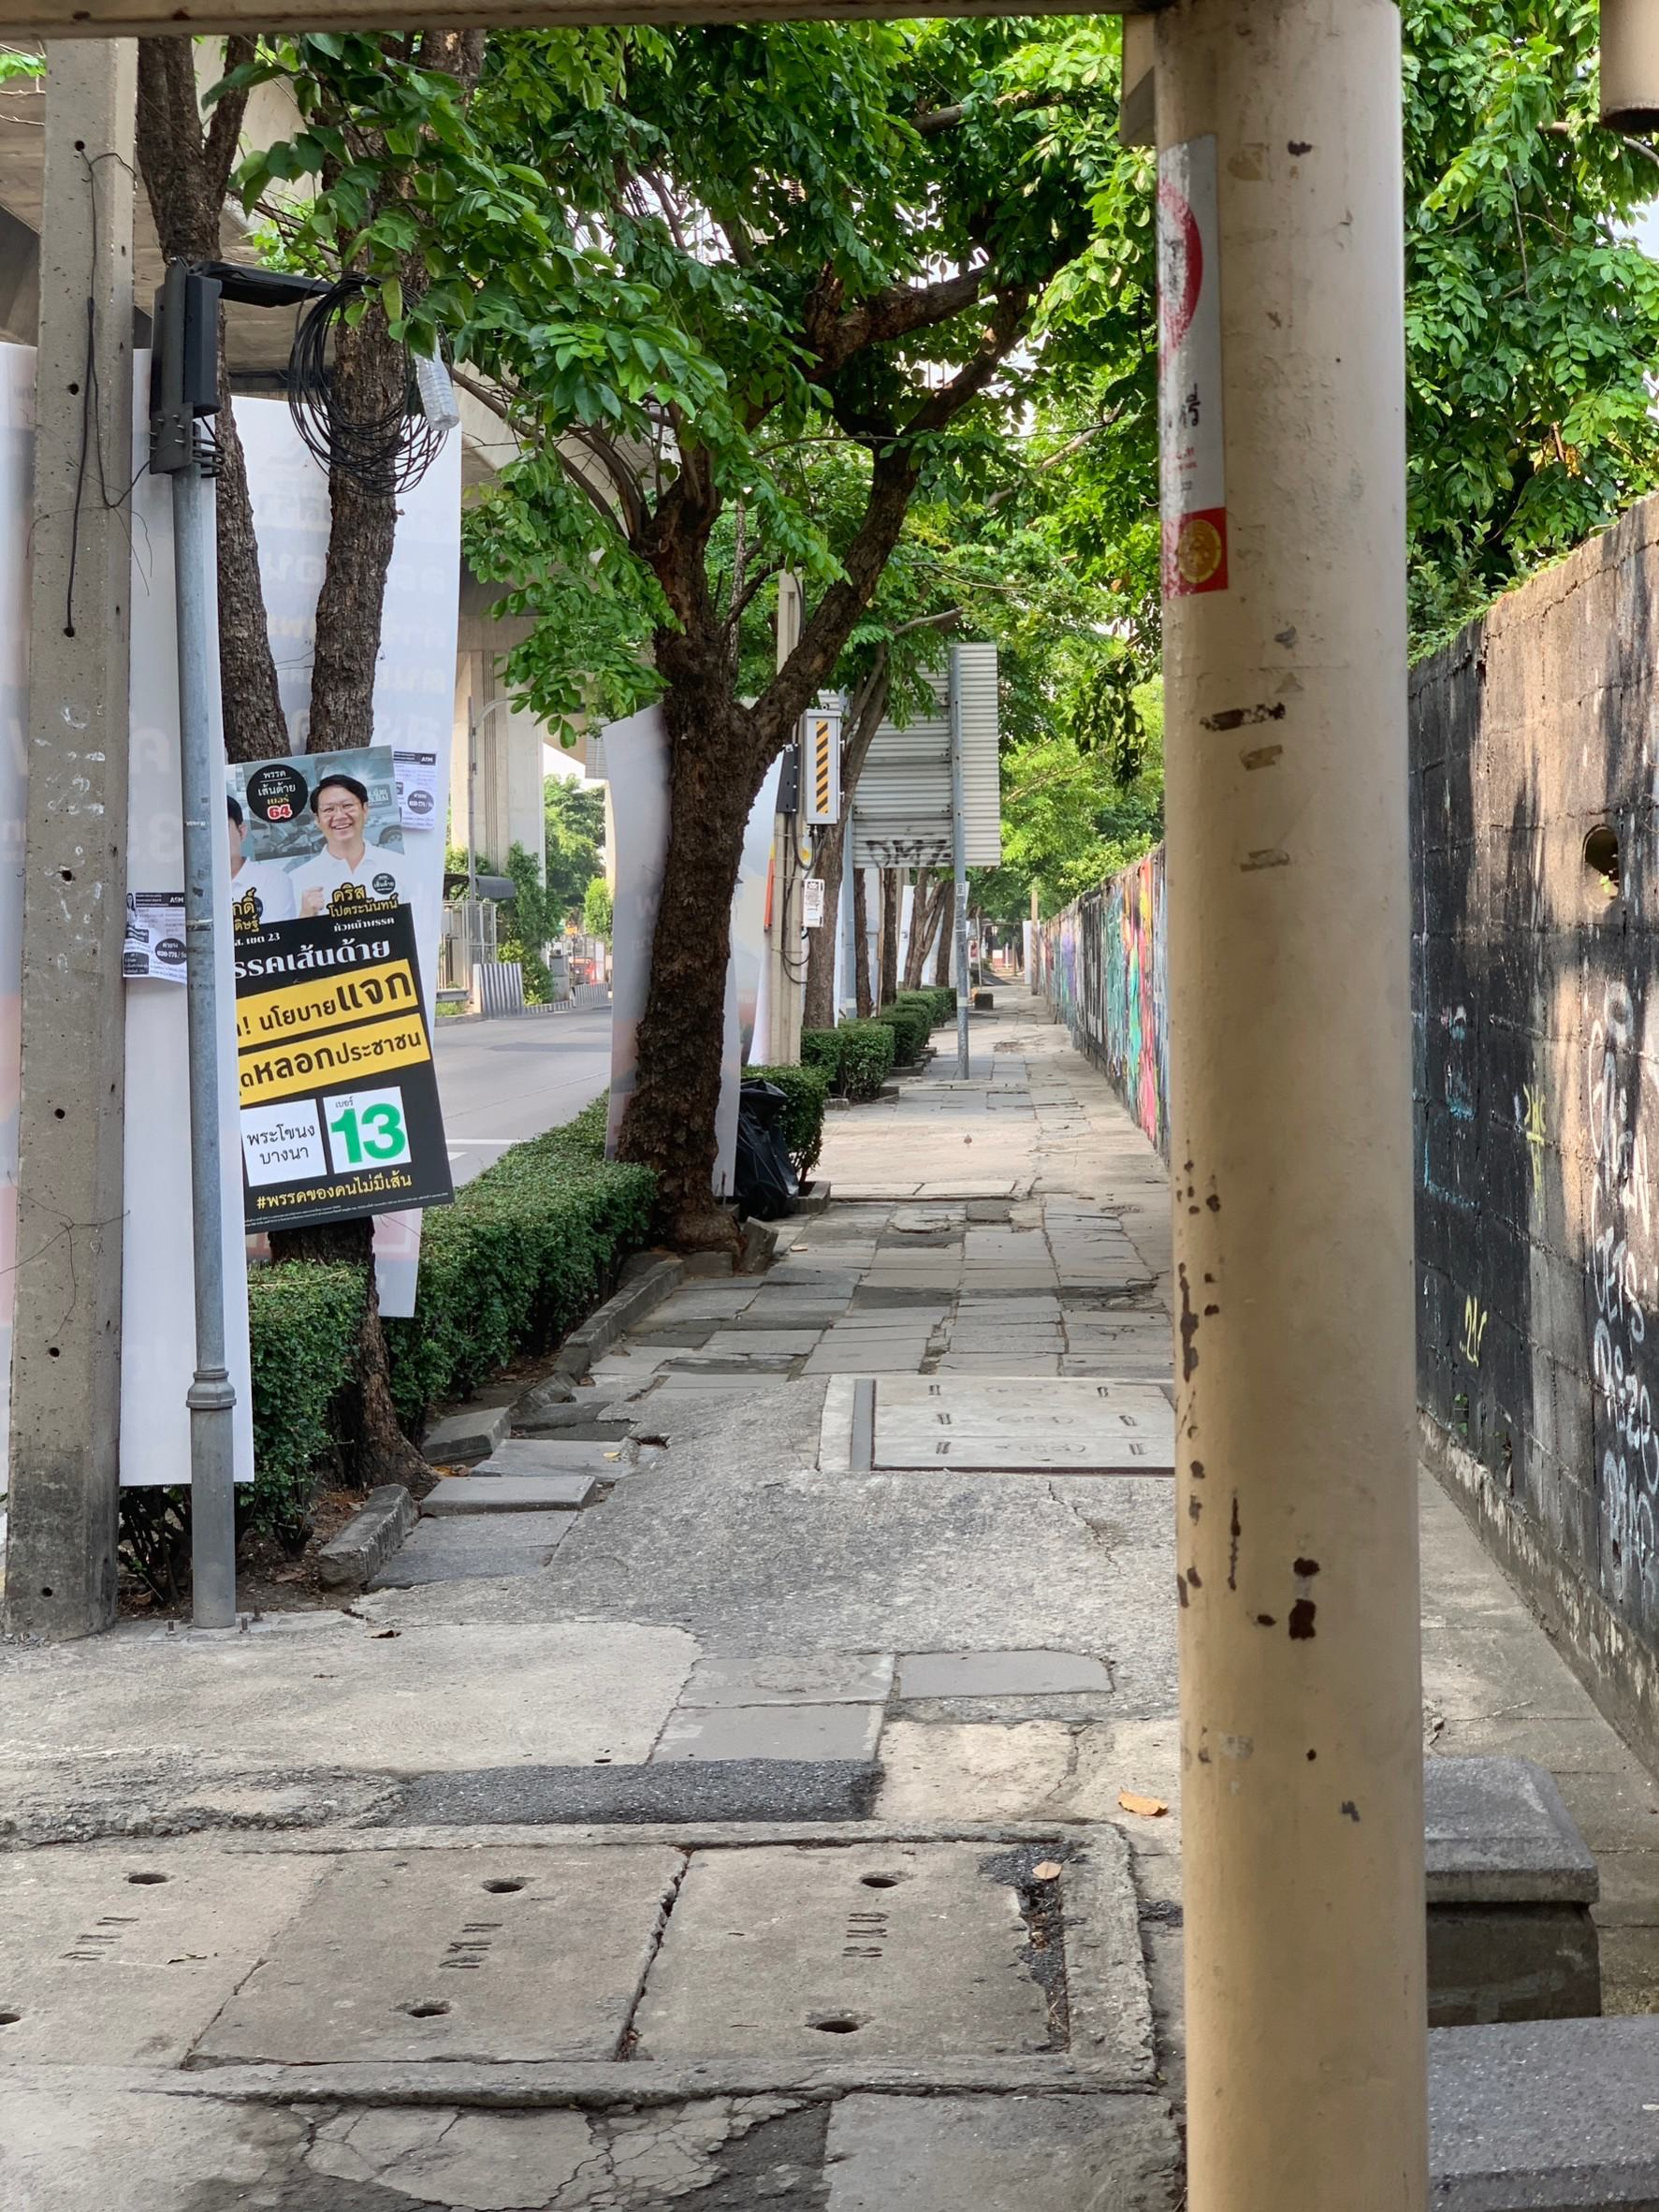Banner: (227, 737, 451, 1228)
